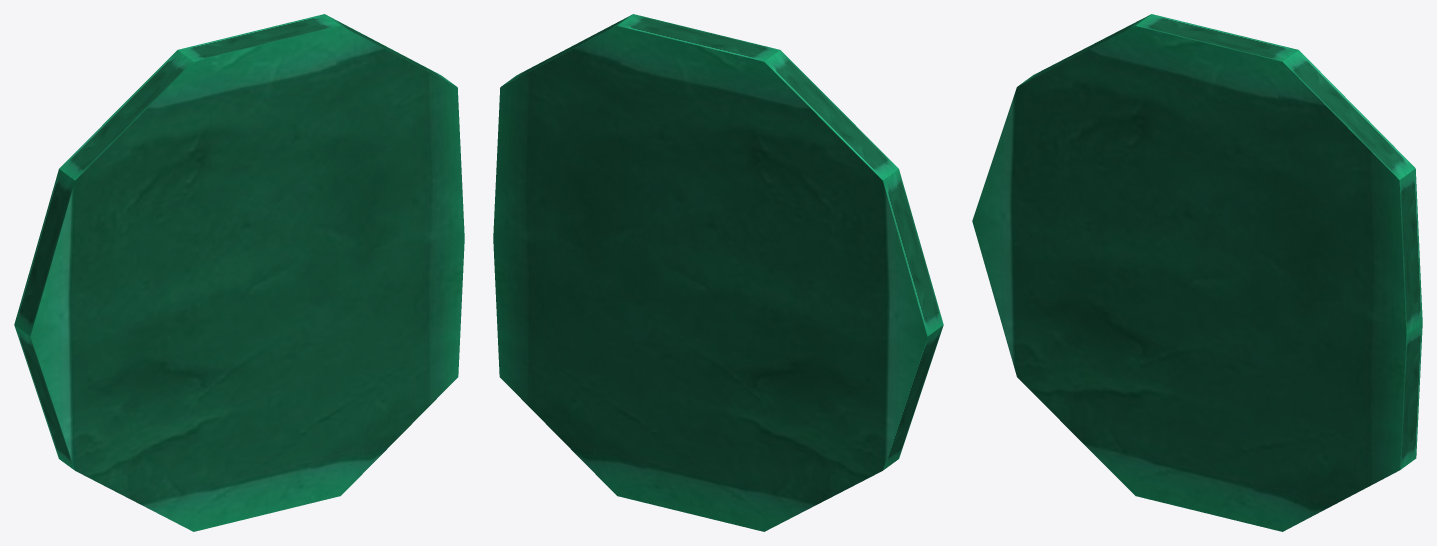
The model's file is platform2dp_wtf.obj.
The picture shows the model from 3 angles, left to right: view 1: azimuth 30°, elevation 25°; view 2: azimuth 150°, elevation 25°; view 3: azimuth 330°, elevation 25°; orthographic projection.
Visible parts, largest first — view 1: group2; view 2: group2; view 3: group2.
Part boxes in pixels (bbox=[...]): group2: bbox=[14, 14, 464, 531]; group2: bbox=[493, 14, 943, 531]; group2: bbox=[972, 14, 1422, 531].
Size of the model in its own units: 638 by 660 by 41.25.
